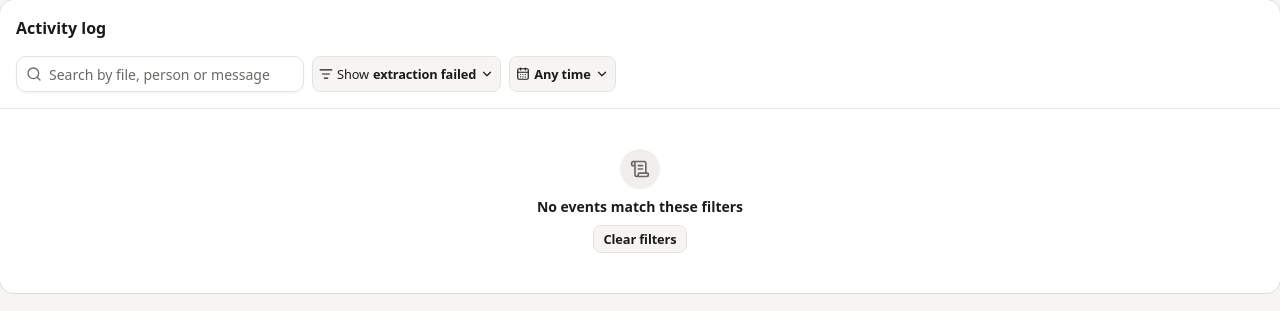
Test case: ActivityLog › offers to clear the filters when nothing matches them
Expected: the text "No events match these filters" is shown, [537,197,743,217]
Click the button "Clear filters" at (640, 239), box [593,225,688,253]
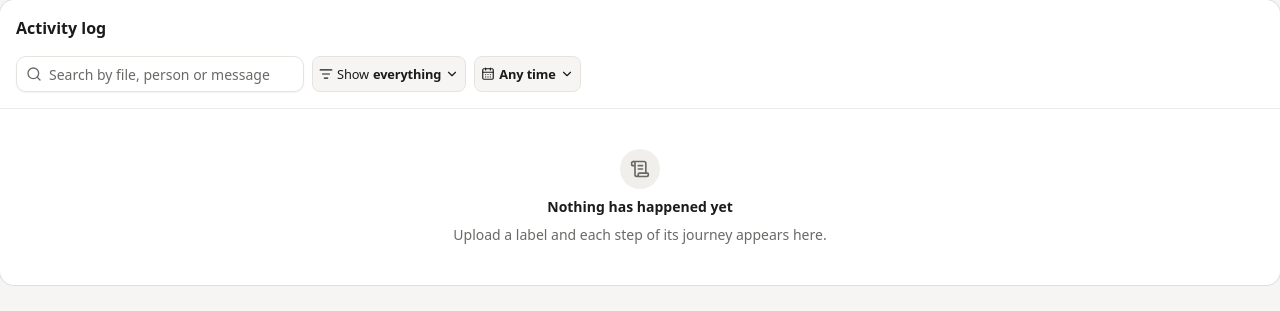
Now the text "Nothing has happened yet" is shown, box [547,197,733,217]
